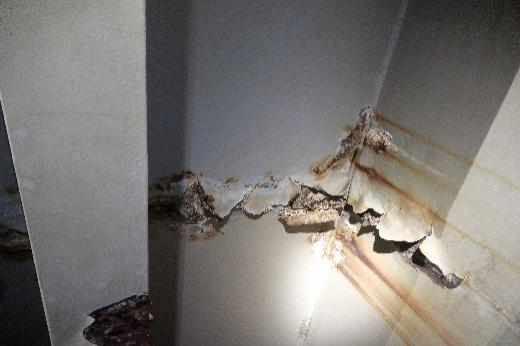corrosion: (330, 234, 464, 342), (361, 112, 425, 198), (74, 293, 169, 344), (156, 170, 227, 238), (272, 171, 338, 233), (350, 203, 417, 255), (313, 102, 363, 164)
